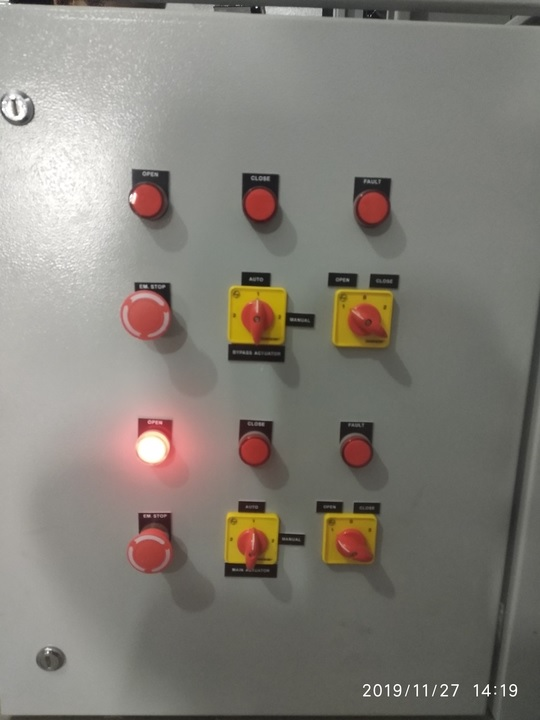Red_Led_Off: (232, 180, 289, 231), (229, 422, 283, 475), (330, 426, 388, 475), (346, 185, 398, 235), (123, 176, 172, 229)
Red_Led_On: (121, 421, 189, 476)
